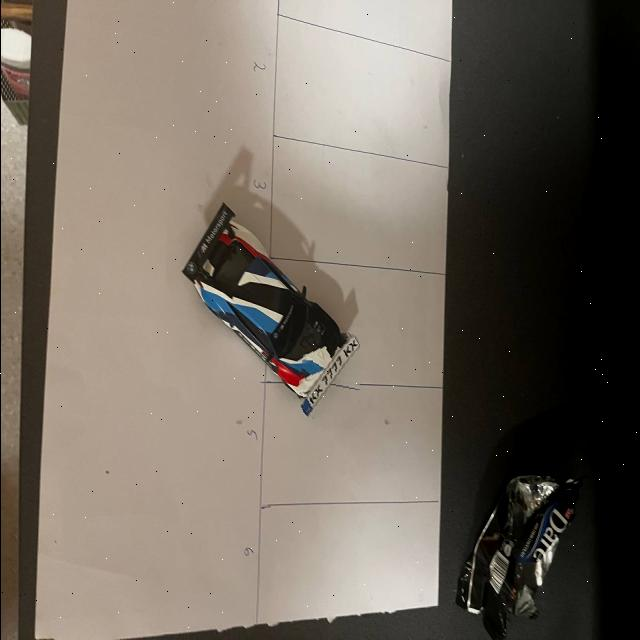KX 7777 KX: (294, 333, 364, 421)
